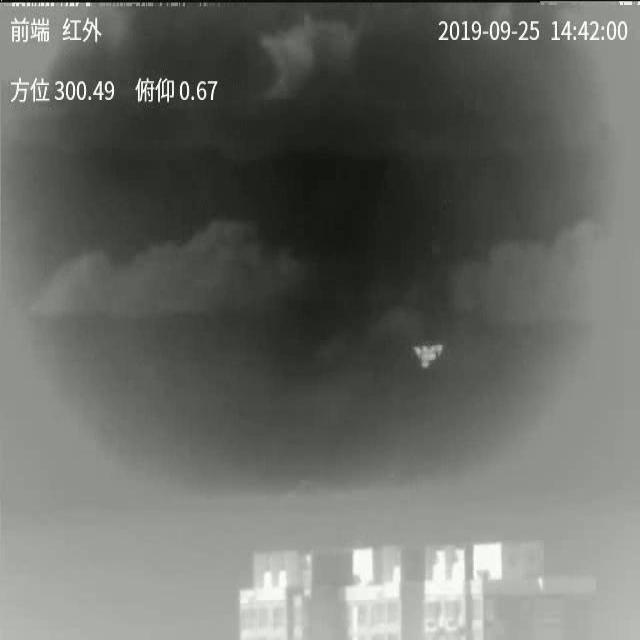drone: (411, 344, 443, 368)
